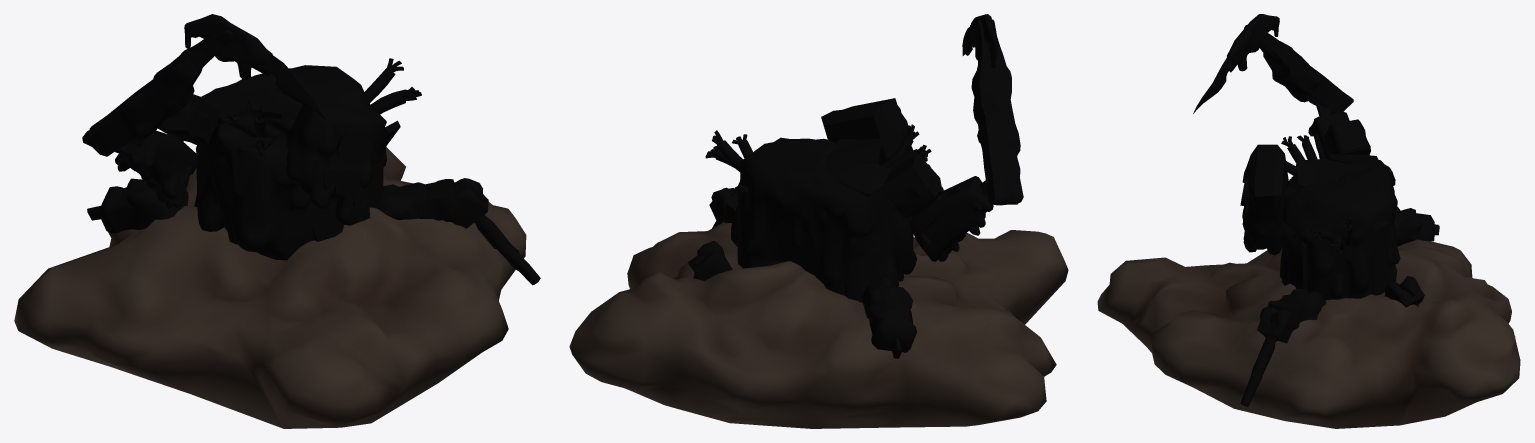
Rendered from env_burntforest_meltedbot06.fbx.
3 views of the same model, side by side, from view 1: azimuth 30°, elevation 25°; view 2: azimuth 150°, elevation 25°; view 3: azimuth 270°, elevation 25° (orthographic). The views are drawn at different scales.
Parts seen in each view (by area): view 1: env_forest_meltedbot06; view 2: env_forest_meltedbot06; view 3: env_forest_meltedbot06.
Part boxes in pixels (x1,y1,x2,y2): env_forest_meltedbot06: (14, 14, 540, 428); env_forest_meltedbot06: (569, 14, 1068, 428); env_forest_meltedbot06: (1097, 14, 1520, 428).
Bounding box in the file's own units: 21.62 × 18.57 × 21.11.
